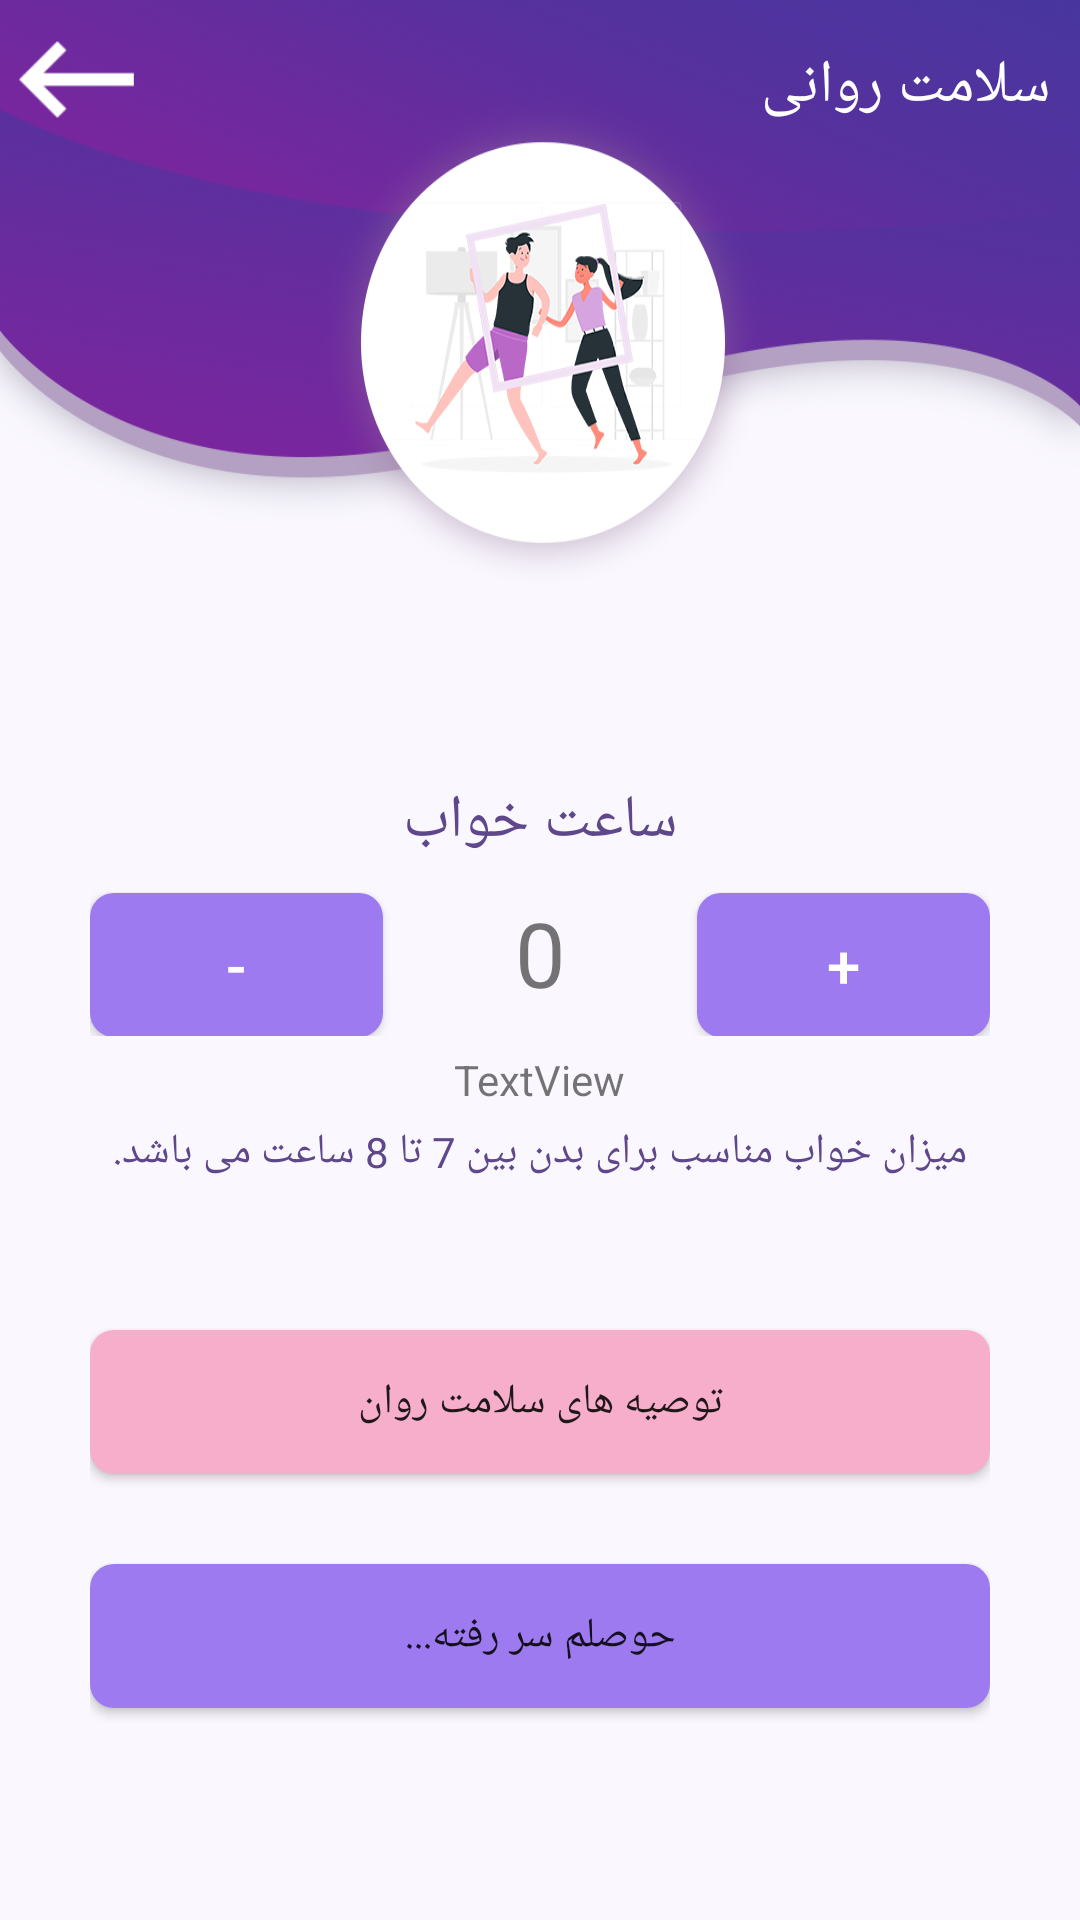

Point at icon controls on the screen. Image size 1080 × 1920, points as point (x, y).
back: point (76, 79)
